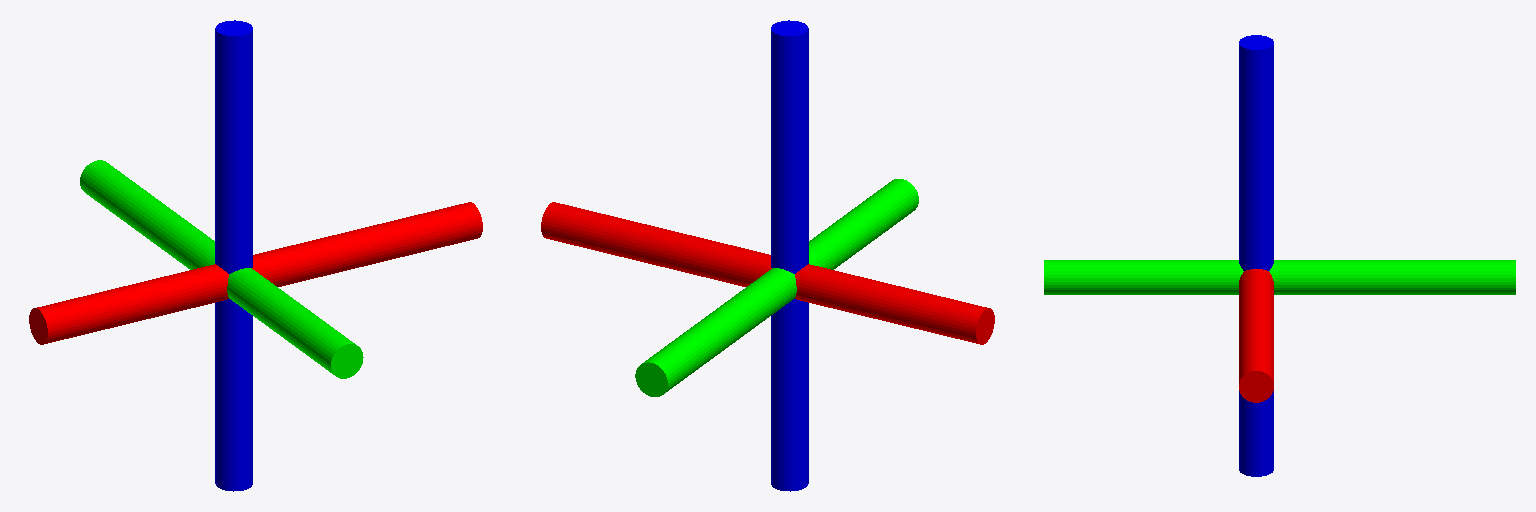
robot.urdf — coord:
<?xml version="1.0"?>
<robot name="coord">
  <link name="x">
    <visual>
      <origin xyz="0.004 0 0" rpy="0 1.5707 0"/>
      <geometry>
        <cylinder radius="0.003" length="0.08"/>
      </geometry>
      <material name="r">
        <color rgba="1 0 0 1"/>
      </material>
    </visual>
    <inertial>
      <mass value="0.05"/>
      <inertia ixx="1e-4" ixy="0" ixz="0" iyy="1e-4" iyz="0" izz="1e-4"/>
    </inertial>
  </link>
  <link name="y">
    <visual>
      <origin xyz="0 0.004 0" rpy="1.5707 0 0"/>
      <geometry>
        <cylinder radius="0.003" length="0.08"/>
      </geometry>
      <material name="g">
        <color rgba="0 1 0 1"/>
      </material>
    </visual>
    <inertial>
      <mass value="0.05"/>
      <inertia ixx="1e-4" ixy="0" ixz="0" iyy="1e-4" iyz="0" izz="1e-4"/>
    </inertial>
  </link>
  <link name="z">
    <visual>
      <origin xyz="0 0 0.004" rpy="0 0 0"/>
      <geometry>
        <cylinder radius="0.003" length="0.08"/>
      </geometry>
      <material name="b">
        <color rgba="0 0 1 1"/>
      </material>
    </visual>
    <inertial>
      <mass value="0.05"/>
      <inertia ixx="1e-4" ixy="0" ixz="0" iyy="1e-4" iyz="0" izz="1e-4"/>
    </inertial>
  </link>
  <joint name="xy" type="fixed">
      <origin xyz="0 0 0" rpy="0 0 0"/>
      <parent link="x"/>
      <child link="y"/>
  </joint>
  <joint name="xz" type="fixed">
      <origin xyz="0 0 0" rpy="0 0 0"/>
      <parent link="x"/>
      <child link="z"/>
  </joint>
</robot>

--- What the picture shows (computed from the rendered views, not written in the file) ---
The picture shows the robot from 3 angles, left to right: view 1: azimuth 30°, elevation 25°; view 2: azimuth 150°, elevation 25°; view 3: azimuth 270°, elevation 25°; orthographic projection.
Robot: coord — 3 links, 2 joints (2 fixed); root link x; default pose: every joint at zero.
Links seen in each view (by area): view 1: z, x, y; view 2: z, x, y; view 3: y, z, x.
Link boxes in pixels (x1=…): z: x1=215, y1=20, x2=252, y2=491; x: x1=29, y1=202, x2=482, y2=344; y: x1=80, y1=160, x2=363, y2=378; z: x1=771, y1=20, x2=808, y2=491; x: x1=541, y1=202, x2=994, y2=344; y: x1=635, y1=179, x2=918, y2=396; y: x1=1044, y1=260, x2=1515, y2=294; z: x1=1239, y1=35, x2=1273, y2=476; x: x1=1239, y1=269, x2=1273, y2=402.
Size in the robot's own frame: 0.08 by 0.08 by 0.08 metres.
Geometry: primitives only (box / cylinder / sphere), no mesh files.